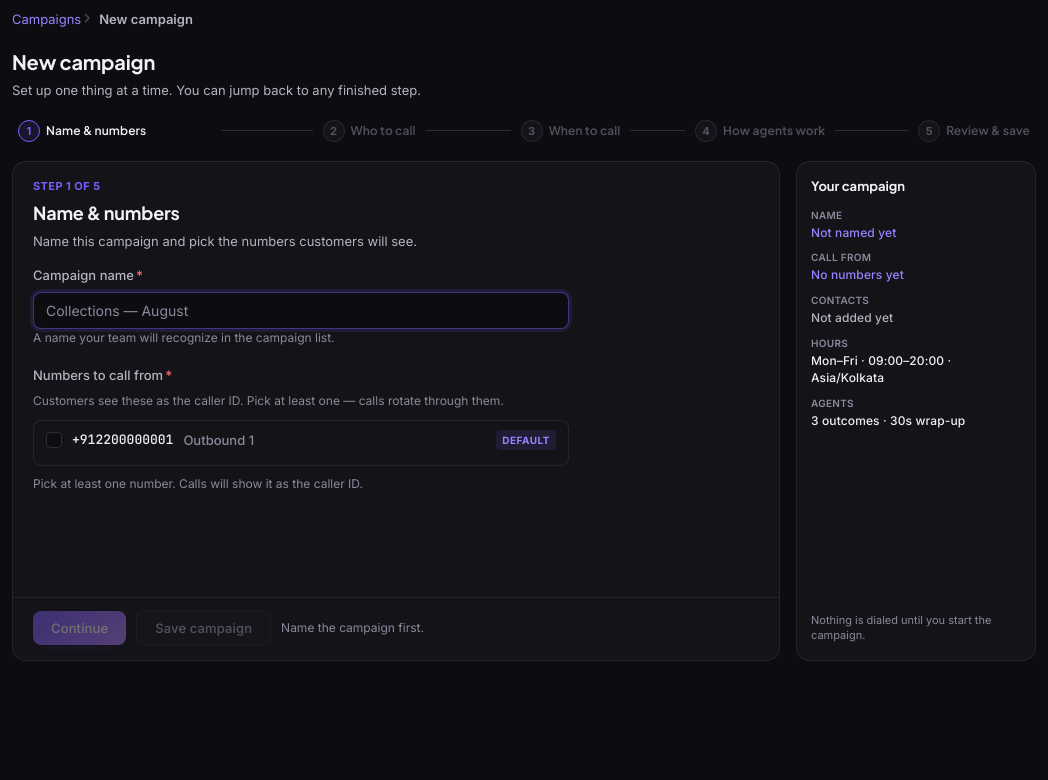
it: the guided setup path › names the missing basic on Continue rather than failing later at upload
Expected: the text "Name the campaign first." is shown, [281,618,424,637]
Expected: the button "Continue" is disabled, [33,611,126,645]
Step 1. Type "Collections" into the field labelled "Campaign name*" → (301, 310), box [33,292,569,329]
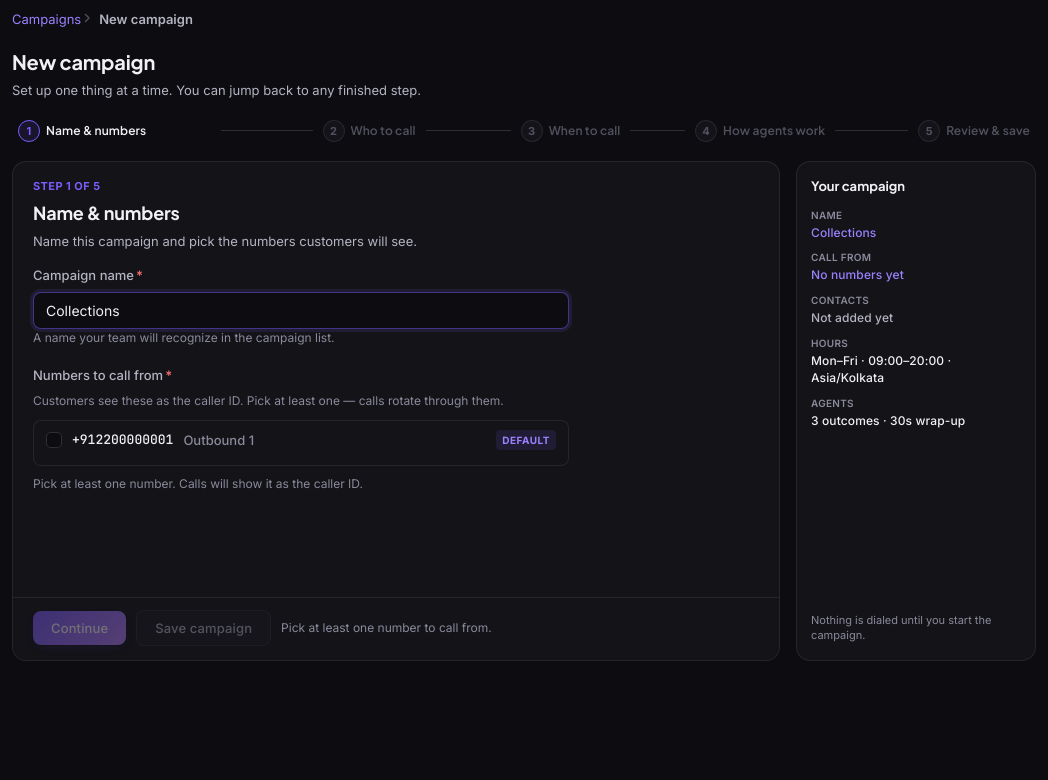
Expected: the text "Pick at least one number to call from." is shown, [281,618,492,637]
